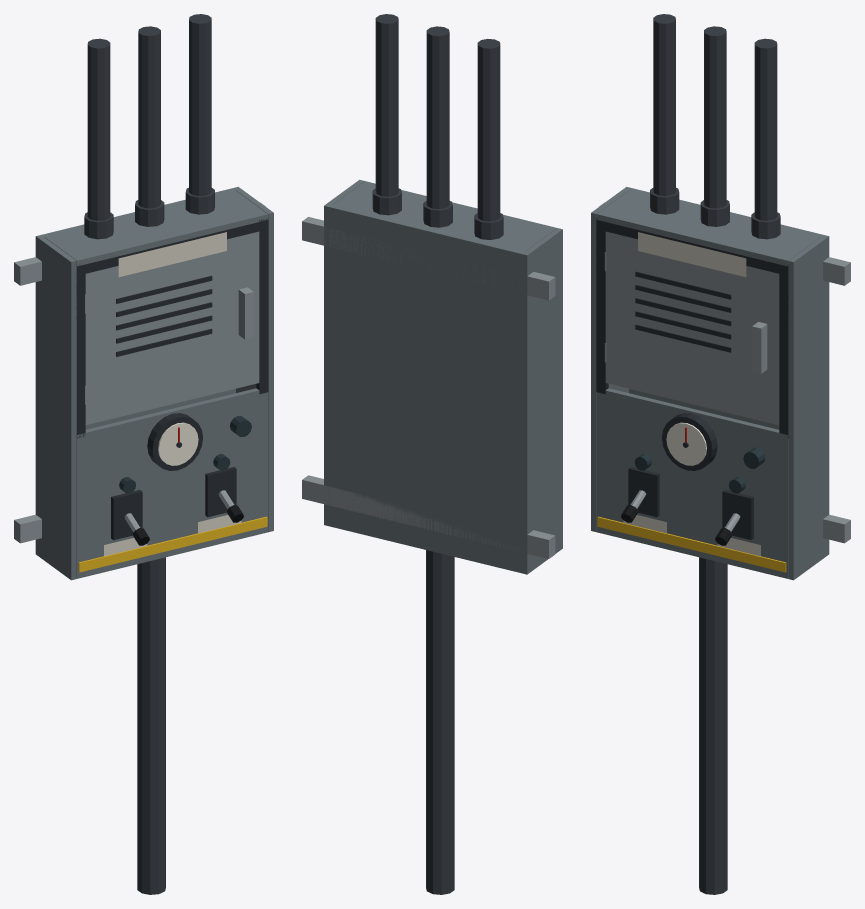
File: junction_box.glb
3 views of the same model, side by side, from view 1: azimuth 30°, elevation 25°; view 2: azimuth 150°, elevation 25°; view 3: azimuth 330°, elevation 25° (orthographic).
Parts seen in each view (by area): view 1: junction_box_body, door, label_box; view 2: junction_box_body; view 3: junction_box_body, door, label_box.
Boxes of the visible parts, x1,y1,x2,y2 form: junction_box_body: (14, 14, 273, 894); door: (85, 231, 259, 425); label_box: (118, 232, 226, 277); junction_box_body: (302, 14, 562, 894); junction_box_body: (591, 14, 850, 894); door: (604, 231, 779, 425); label_box: (638, 232, 746, 277).
Size of the model in its own units: 0.68 by 2.26 by 0.2658.
